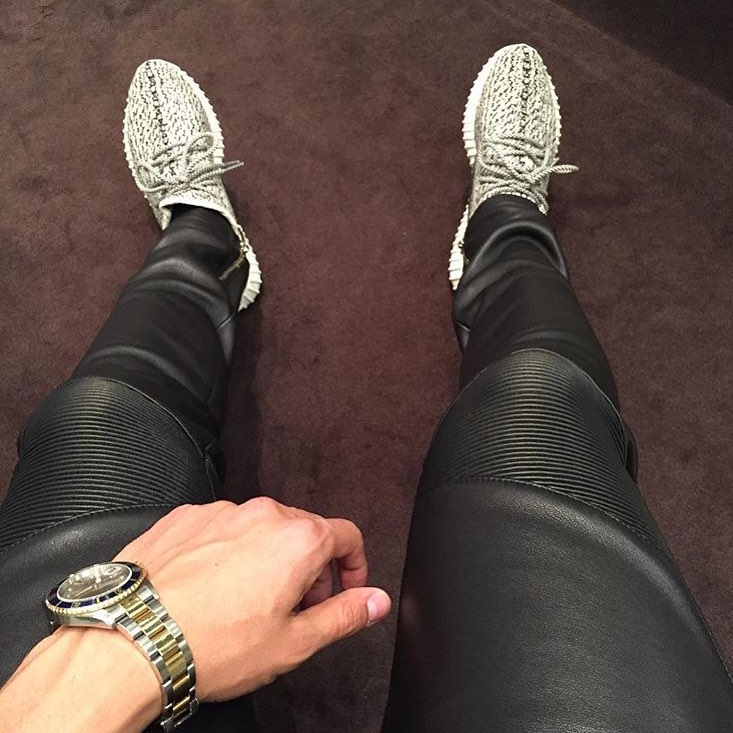sneaker: (97, 52, 276, 327), (430, 20, 589, 315)
